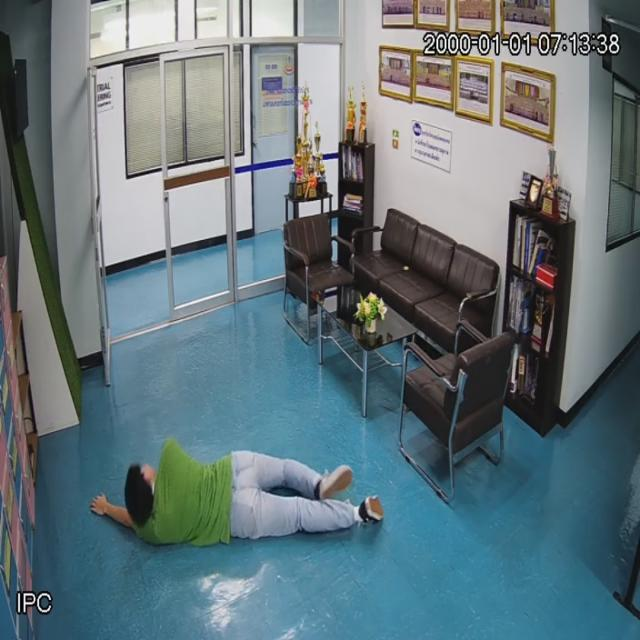fall: (94, 444, 392, 544)
